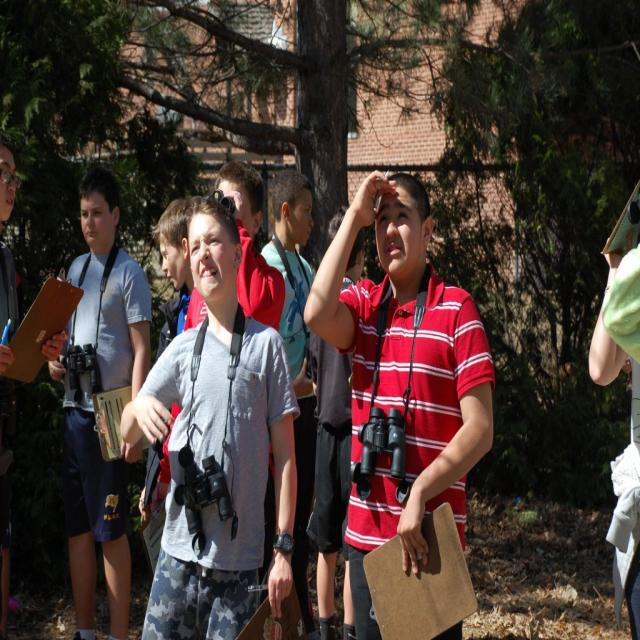body: (303, 168, 498, 639), (117, 198, 300, 638), (136, 157, 290, 529), (42, 160, 152, 639), (0, 136, 69, 640), (255, 164, 321, 640), (299, 203, 366, 640), (587, 182, 639, 640), (136, 196, 198, 529)
